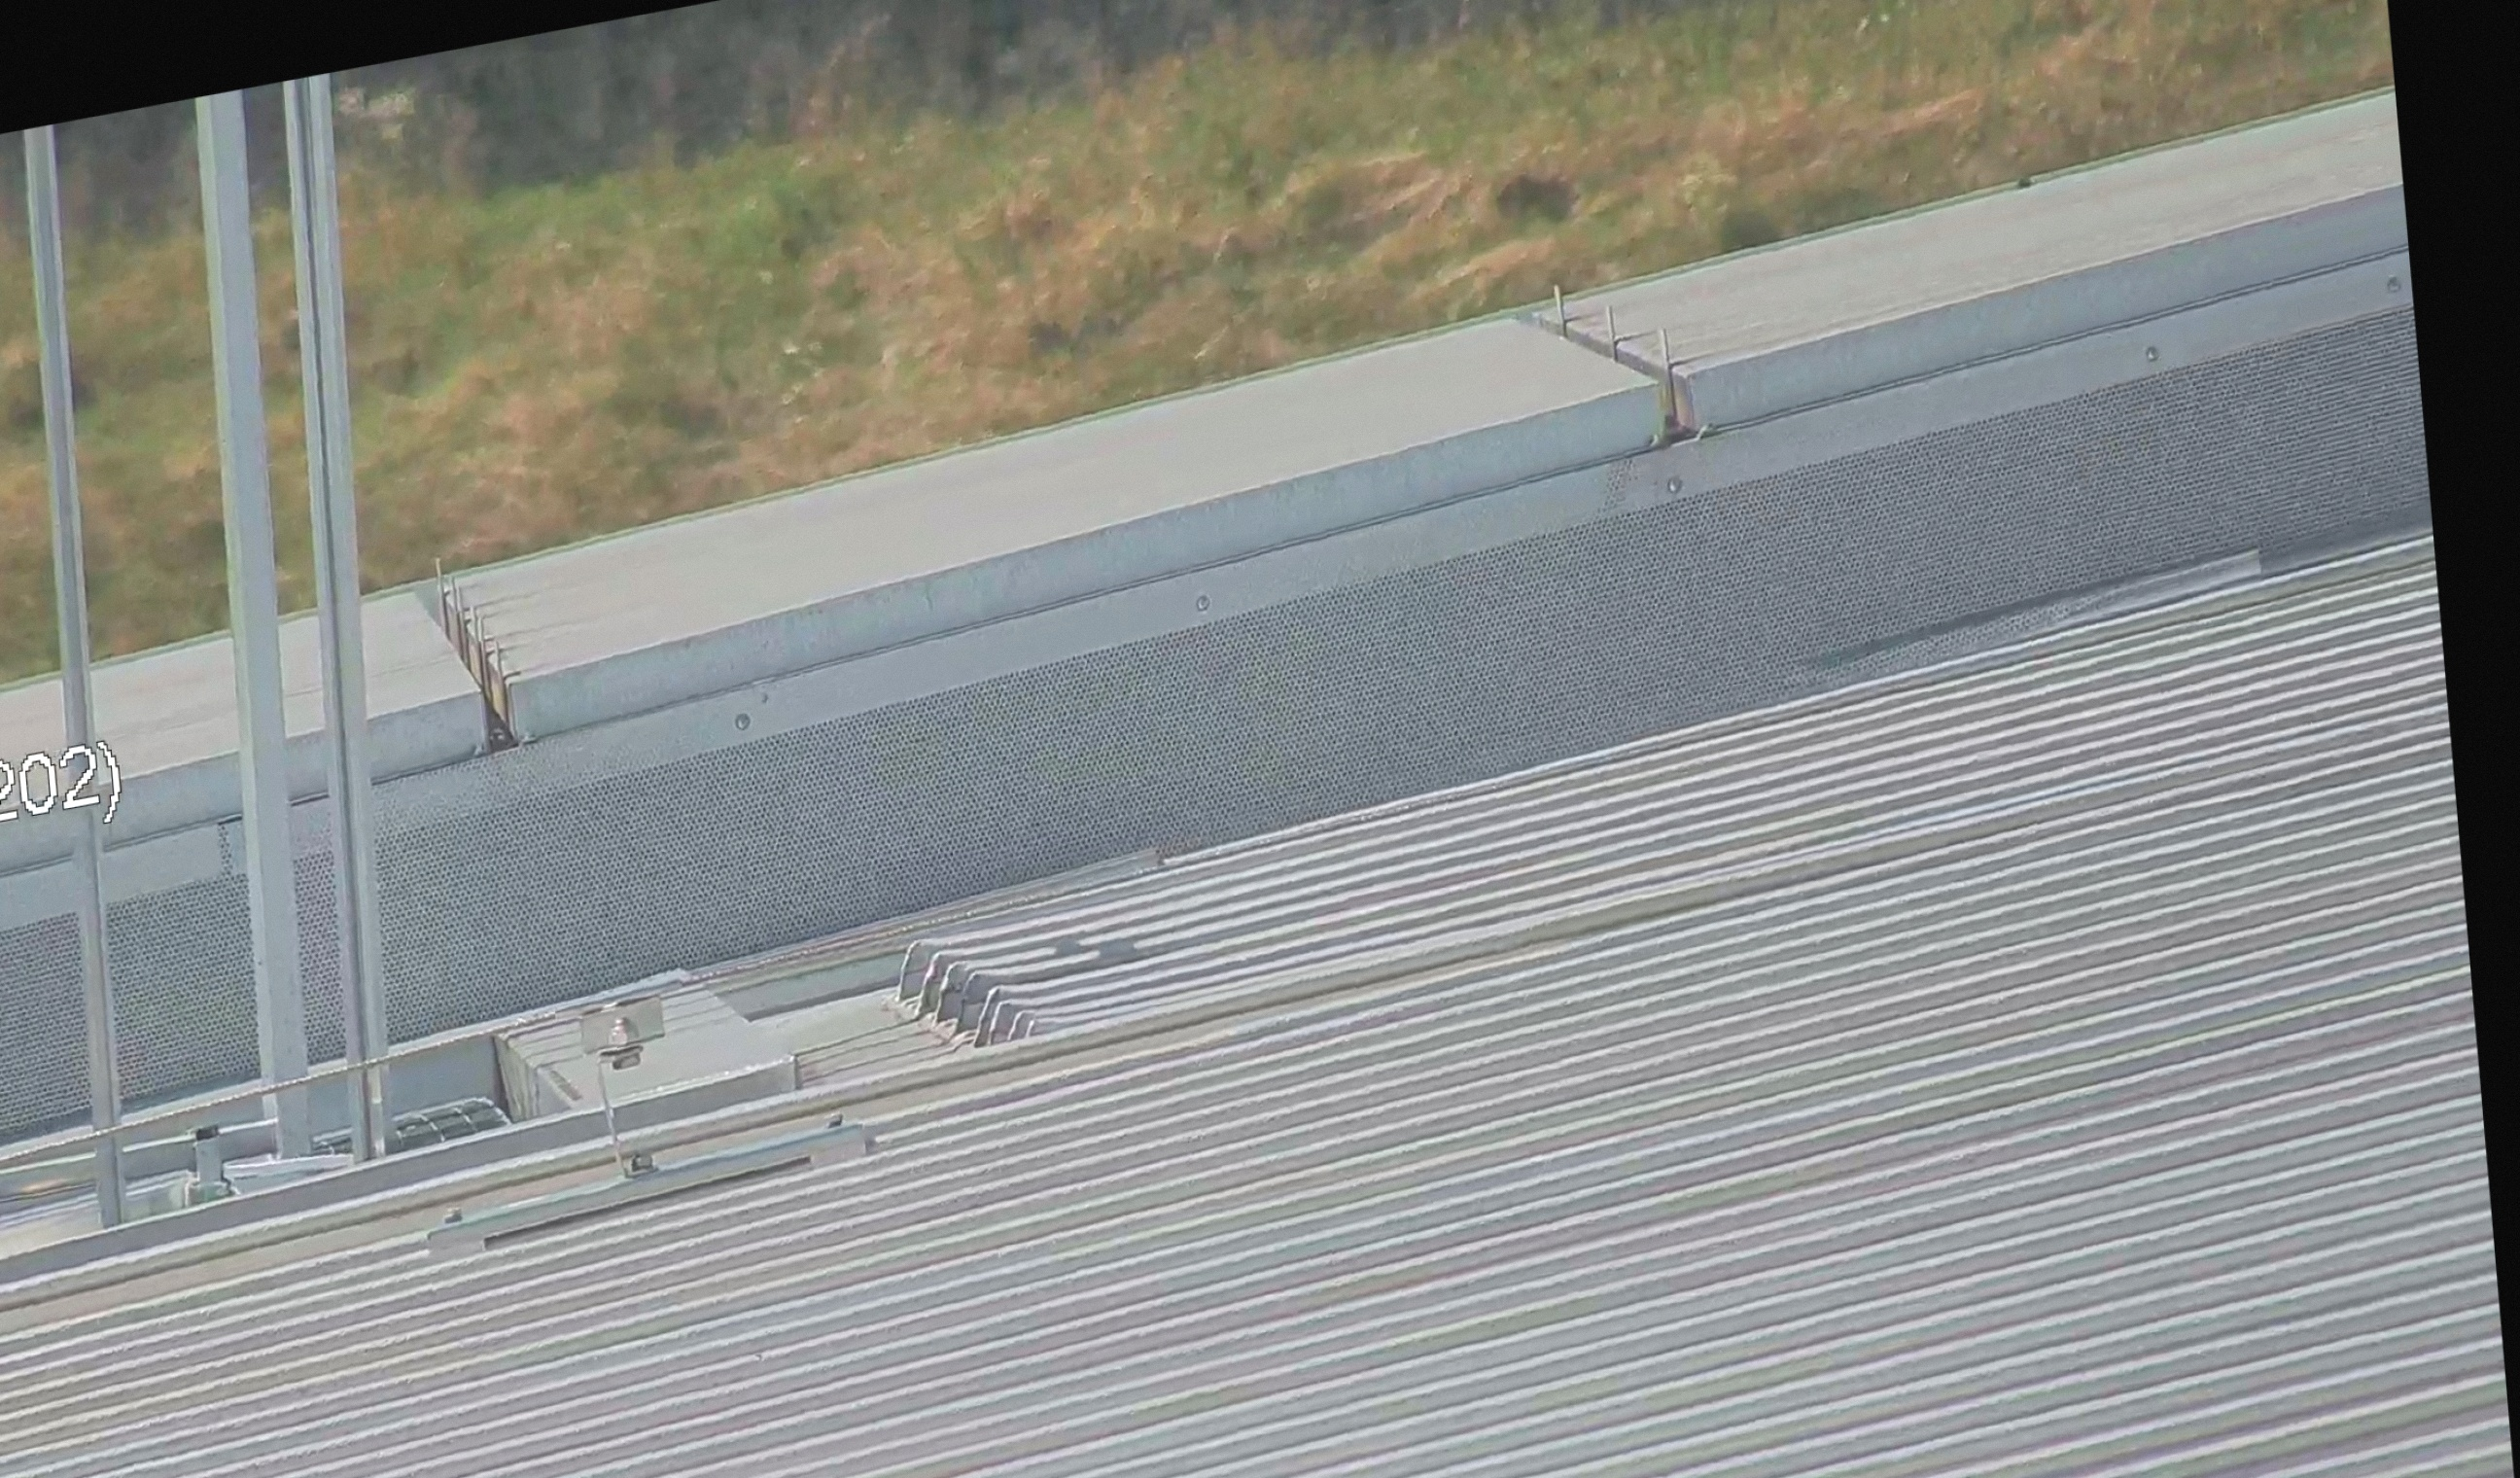Other: (893, 887, 1059, 1086)
